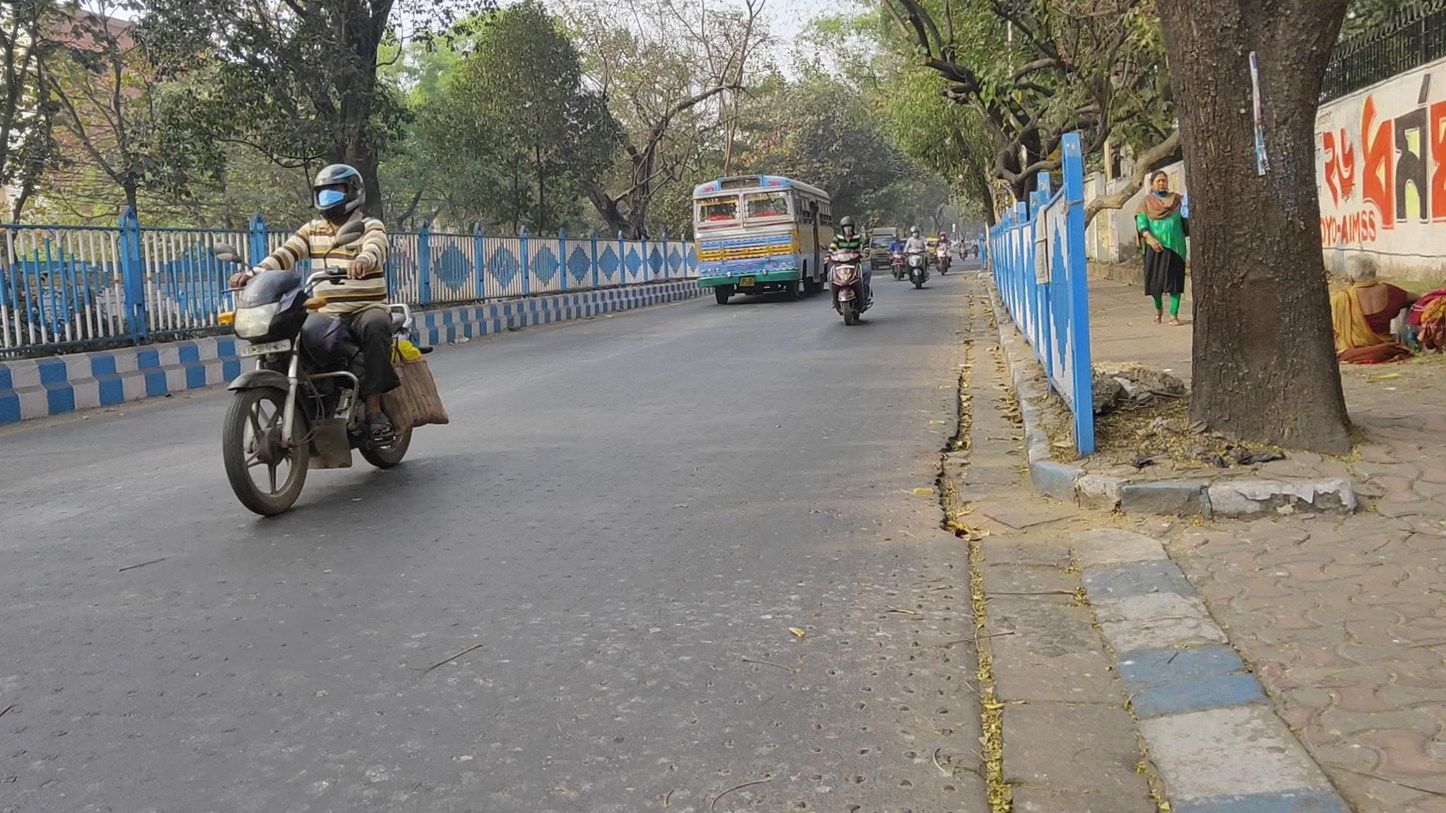Bus: (691, 176, 832, 305)
bike: (210, 163, 434, 519), (826, 218, 874, 324), (902, 225, 930, 291), (933, 231, 954, 276), (889, 232, 907, 282), (958, 237, 969, 262)
van: (868, 227, 908, 271)
